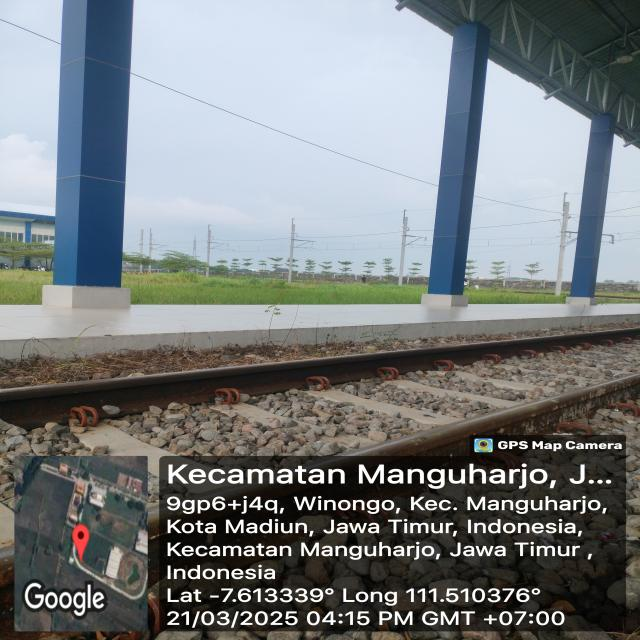rail-detection: (0, 327, 640, 430), (345, 372, 640, 459)
